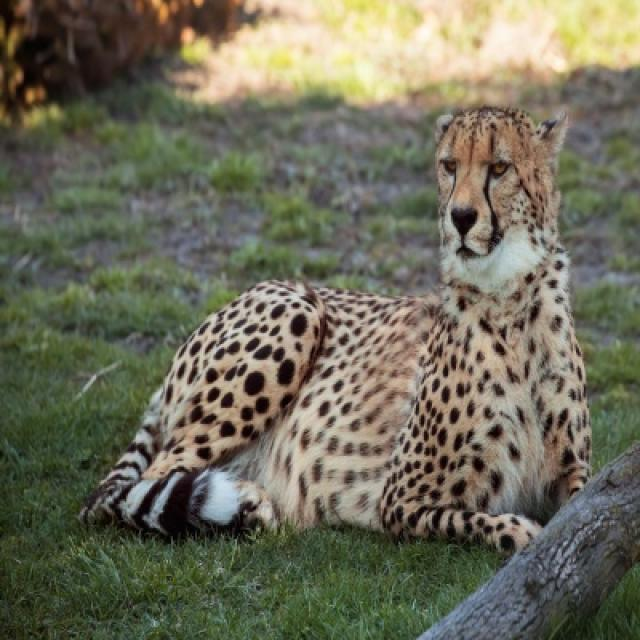Cheetah: (77, 107, 594, 557)
